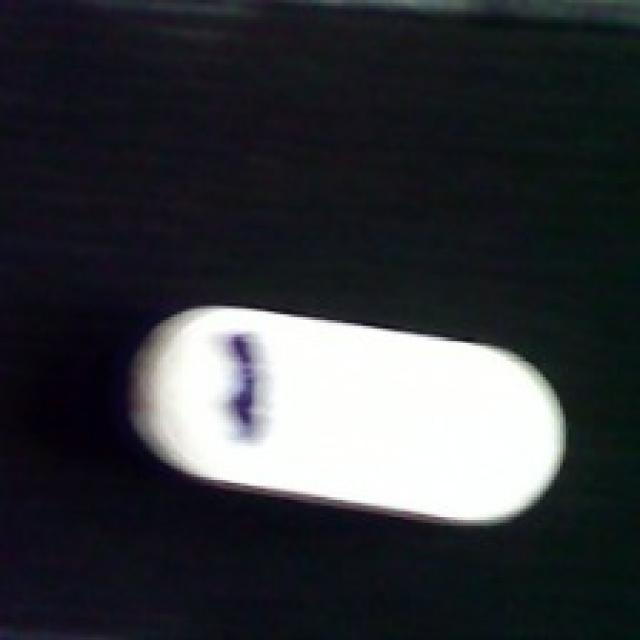defected: (115, 306, 574, 531)
